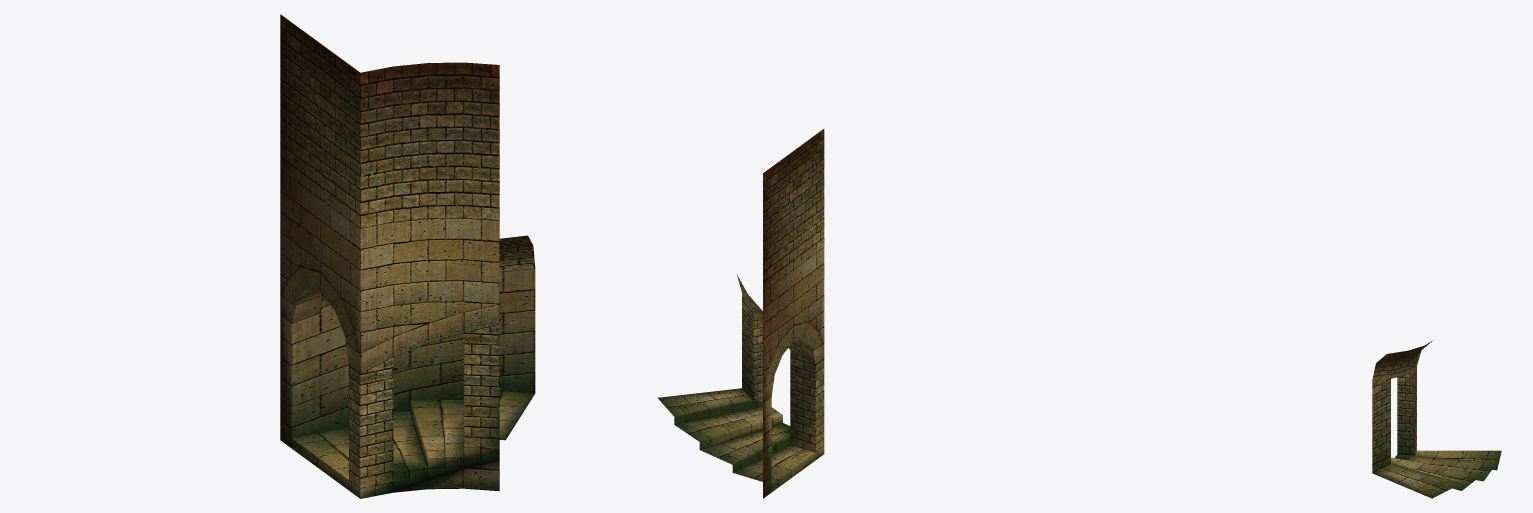
Rendered from Mission12_Catacomb01_B.glb.
3 renders of one model, left to right at view 1: azimuth 30°, elevation 25°; view 2: azimuth 150°, elevation 25°; view 3: azimuth 270°, elevation 25°, orthographic. The views are drawn at different scales.
Visible parts, largest first — view 1: MISSION12_CATACOMB01_B; view 2: MISSION12_CATACOMB01_B; view 3: MISSION12_CATACOMB01_B.
Boxes of the visible parts, x1=… form: MISSION12_CATACOMB01_B: x1=280, y1=14, x2=535, y2=498; MISSION12_CATACOMB01_B: x1=658, y1=129, x2=824, y2=498; MISSION12_CATACOMB01_B: x1=1372, y1=340, x2=1501, y2=498.
Bounding box in the file's own units: 13.95 × 10.66 × 9.5.
2 materials, 2 textured.
